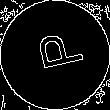P_W: (26, 31, 84, 79)
